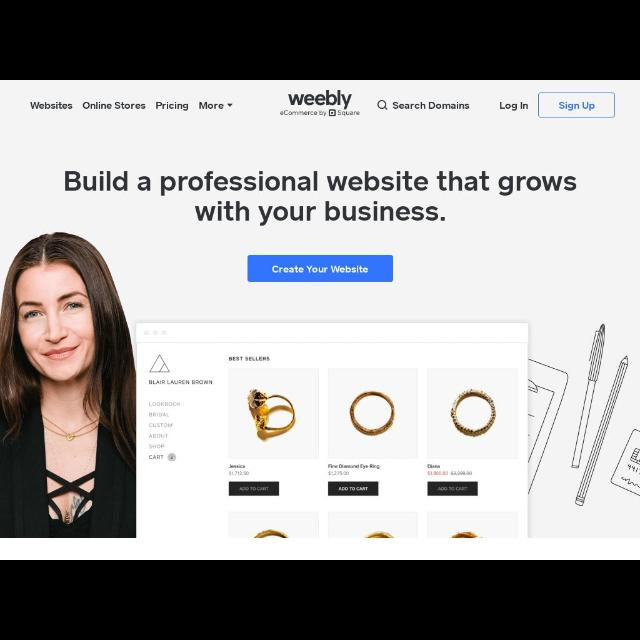backgroundimage: (1, 230, 636, 536)
icon: (377, 98, 389, 114), (228, 103, 232, 109)
image: (280, 90, 362, 118)
multitab: (29, 101, 234, 113)
spinner: (198, 100, 235, 110)
text: (63, 170, 579, 222), (271, 263, 369, 273), (394, 100, 470, 112), (82, 100, 146, 110), (556, 100, 594, 112), (154, 100, 190, 110), (29, 102, 73, 110), (497, 102, 531, 110), (197, 102, 223, 110)
textbutton: (248, 255, 394, 281), (538, 94, 616, 116)
